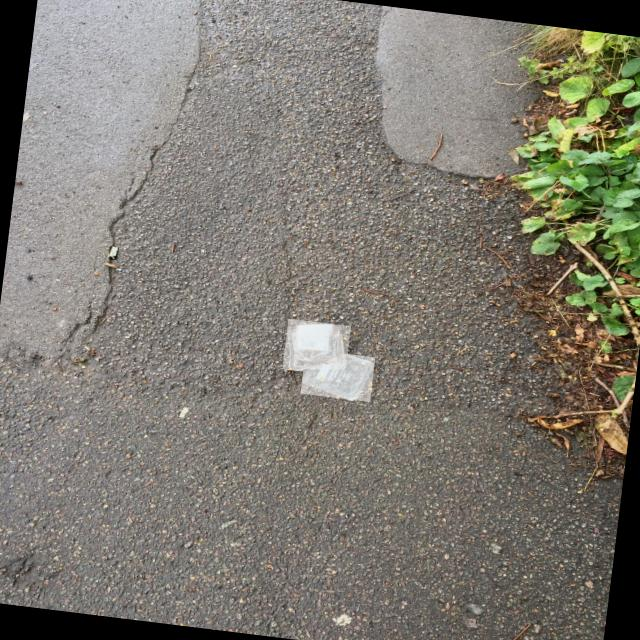Cigarette: (108, 246, 118, 259)
Food container: (286, 324, 345, 370)
Plastic film: (301, 354, 373, 400)
